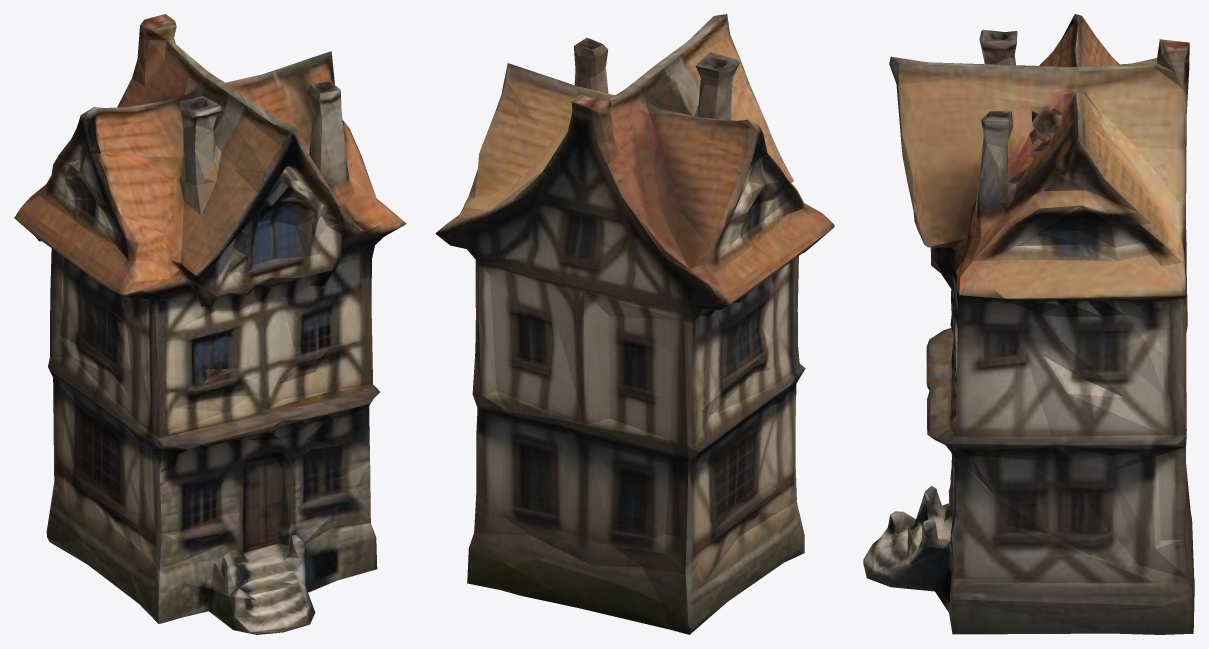
File: house_timber_tall_lod1.glb
The picture shows the model from 3 angles, left to right: view 1: azimuth 30°, elevation 25°; view 2: azimuth 150°, elevation 25°; view 3: azimuth 270°, elevation 25°; orthographic projection. The views are drawn at different scales.
Visible parts, largest first — view 1: house_timber_tall_lod1; view 2: house_timber_tall_lod1; view 3: house_timber_tall_lod1.
Part boxes in pixels (x1=…): house_timber_tall_lod1: x1=14, y1=14, x2=406, y2=634; house_timber_tall_lod1: x1=435, y1=14, x2=834, y2=634; house_timber_tall_lod1: x1=863, y1=14, x2=1194, y2=634.
Bounding box in the file's own units: 4.83 × 7.97 × 4.5.
1 material, 1 textured.
